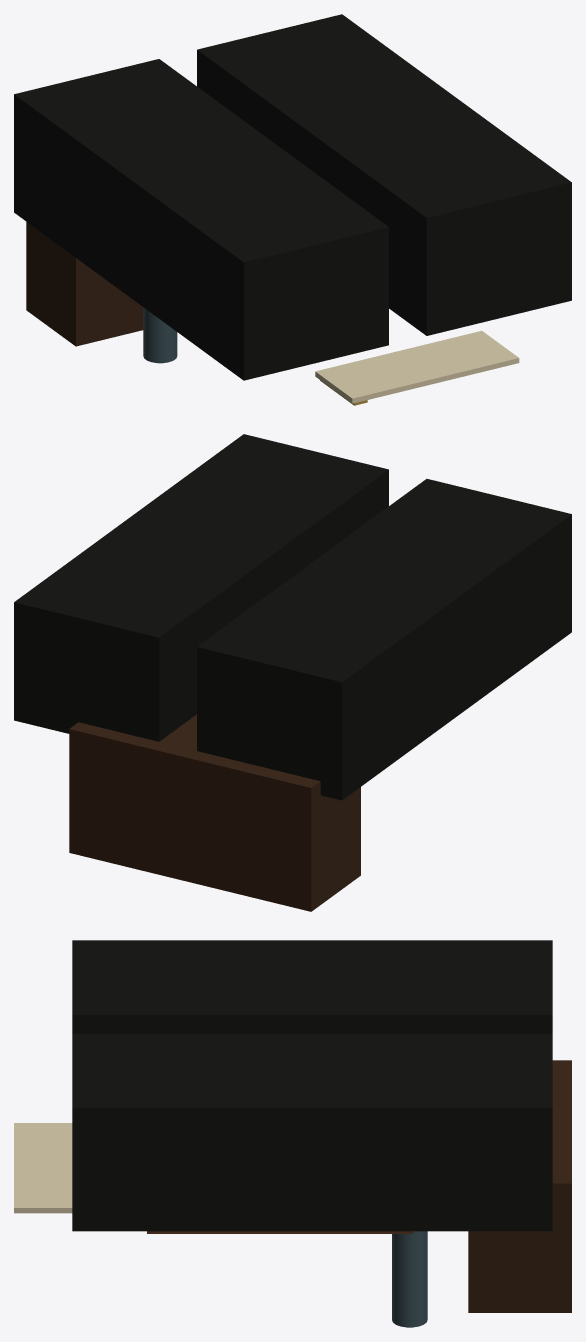
The model's file is dz_shelter_stock_lockers_premium.glb.
3 views of the same model, one above another, from view 1: azimuth 30°, elevation 25°; view 2: azimuth 150°, elevation 25°; view 3: azimuth 270°, elevation 25° (orthographic). The views are drawn at different scales.
Visible parts, largest first — view 1: tall locker -0.34, tall locker 0.34, water crate base, stock paper label paper, dirty bottle -0.32; view 2: tall locker -0.34, tall locker 0.34, water crate base; view 3: tall locker 0.34, tall locker -0.34, water crate base, stock paper label paper, dirty bottle 0.4, locker rusty door 0.34.
Boxes of the visible parts, x1,y1,x2,y2 form: tall locker -0.34: (14, 59, 388, 380); tall locker 0.34: (197, 14, 571, 335); water crate base: (26, 222, 143, 346); stock paper label paper: (315, 331, 519, 403); dirty bottle -0.32: (143, 307, 177, 363); tall locker -0.34: (197, 479, 571, 800); tall locker 0.34: (14, 434, 388, 741); water crate base: (69, 714, 360, 911); tall locker 0.34: (72, 1033, 552, 1231); tall locker -0.34: (72, 940, 552, 1033); water crate base: (468, 1060, 571, 1312); stock paper label paper: (14, 1123, 72, 1213); dirty bottle 0.4: (392, 1231, 427, 1327); locker rusty door 0.34: (147, 1231, 412, 1233).
Bounding box in the file's own units: 1.22 × 0.82 × 1.72.
